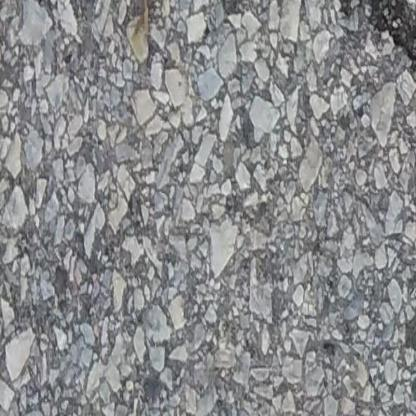Cracks: (353, 0, 416, 83)
